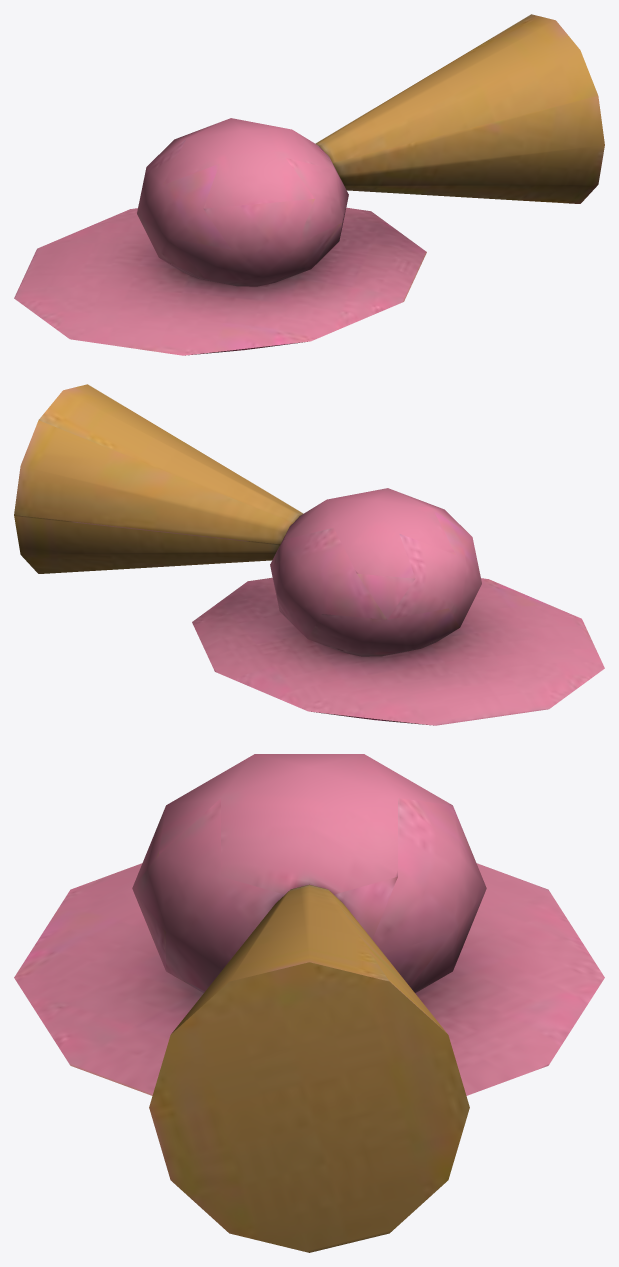
The model's file is cucurucho_caido.glb.
3 views of the same model, one above another, from view 1: azimuth 30°, elevation 25°; view 2: azimuth 150°, elevation 25°; view 3: azimuth 270°, elevation 25° (orthographic). The views are drawn at different scales.
Visible parts, largest first — view 1: cucurucho_caido; view 2: cucurucho_caido; view 3: cucurucho_caido.
Boxes of the visible parts, bbox=[...] form: cucurucho_caido: bbox=[14, 14, 604, 355]; cucurucho_caido: bbox=[14, 384, 604, 725]; cucurucho_caido: bbox=[14, 754, 604, 1252].
Size of the model in its own units: 2.3 by 0.796 by 1.4.
Materials: 1 (1 with a texture image).
